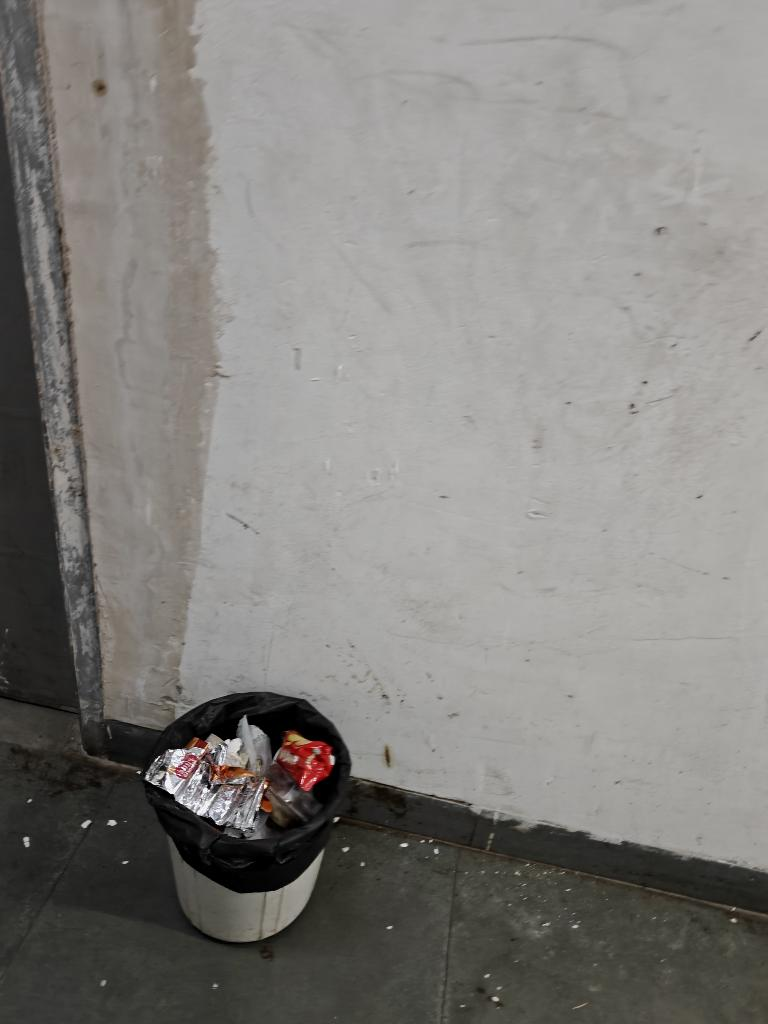dustbin: (111, 674, 367, 977)
